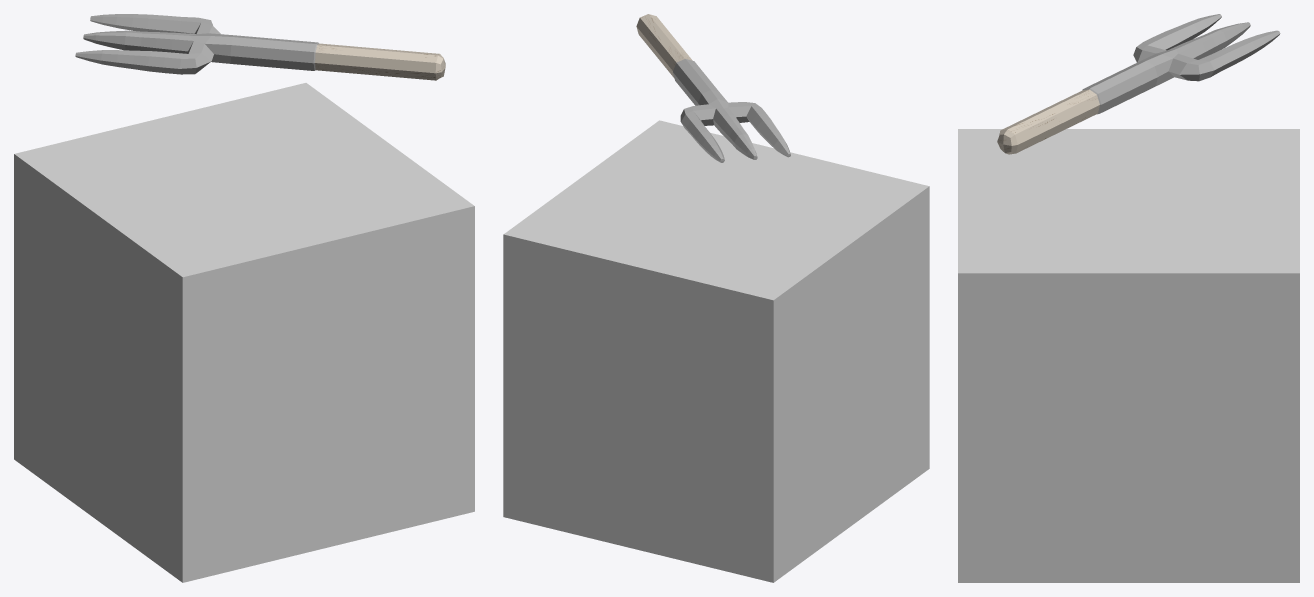
File: pitchFork.fbx
3 views of the same model, side by side, from view 1: azimuth 30°, elevation 25°; view 2: azimuth 150°, elevation 25°; view 3: azimuth 270°, elevation 25° (orthographic). The views are drawn at different scales.
Parts seen in each view (by area): view 1: Cube, Rake.001; view 2: Cube, Rake.001; view 3: Cube, Rake.001.
Part boxes in pixels (bbox=[...]): Cube: bbox=[14, 83, 474, 582]; Rake.001: bbox=[75, 14, 445, 80]; Cube: bbox=[503, 120, 929, 582]; Rake.001: bbox=[636, 14, 790, 162]; Cube: bbox=[958, 129, 1299, 582]; Rake.001: bbox=[997, 14, 1280, 154].
Bounding box in the file's own units: 200 × 290 × 200.
